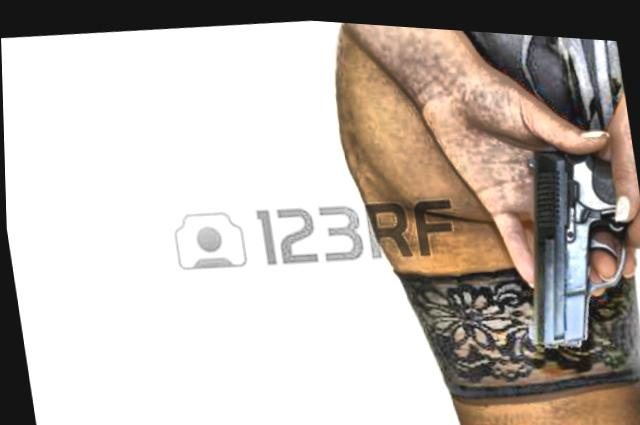pistol: (493, 127, 640, 348)
